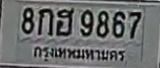6: (112, 10, 124, 37)
7: (128, 11, 140, 38)
8: (96, 10, 108, 37), (21, 7, 33, 33)
9: (80, 9, 92, 35)
A01: (37, 7, 53, 35)
A44: (55, 7, 73, 35)
BKK: (30, 43, 127, 65)
